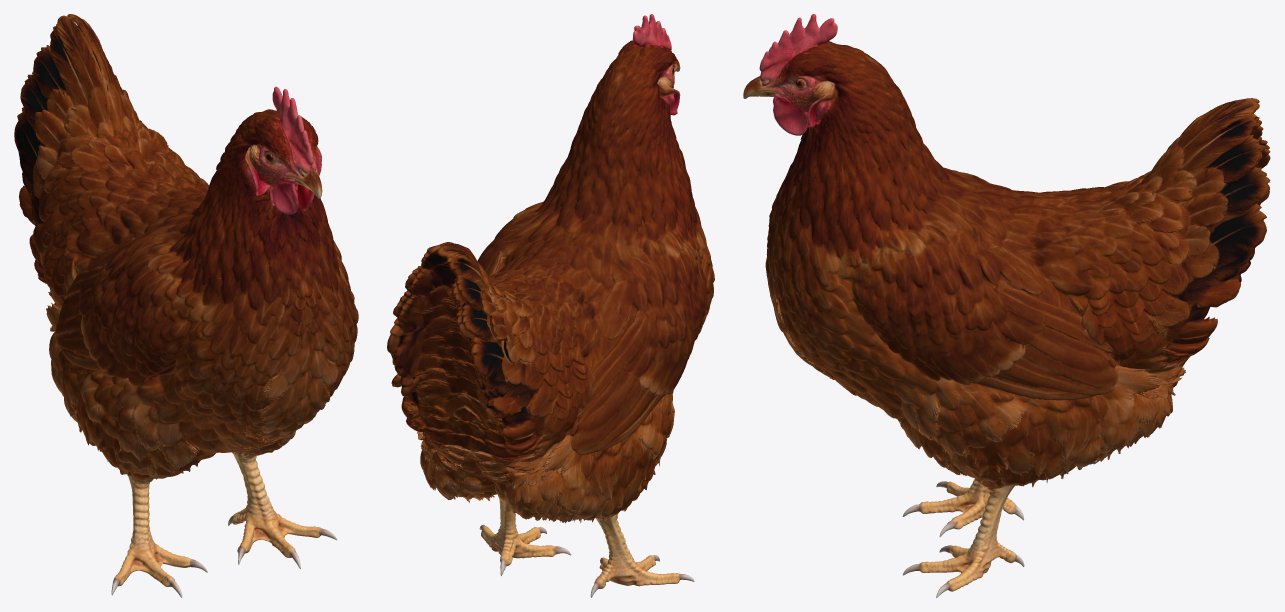
The model's file is chicken.glb.
3 views of the same model, side by side, from view 1: azimuth 30°, elevation 25°; view 2: azimuth 150°, elevation 25°; view 3: azimuth 270°, elevation 25° (orthographic). The views are drawn at different scales.
Parts seen in each view (by area): view 1: chicken; view 2: chicken; view 3: chicken.
Part boxes in pixels (<box>): chicken: <box>14,14,358,597</box>; chicken: <box>387,14,714,597</box>; chicken: <box>743,14,1270,597</box>.
Size of the model in its own units: 0.2016 by 0.45 by 0.4043.
Materials: 1 (1 with a texture image).
